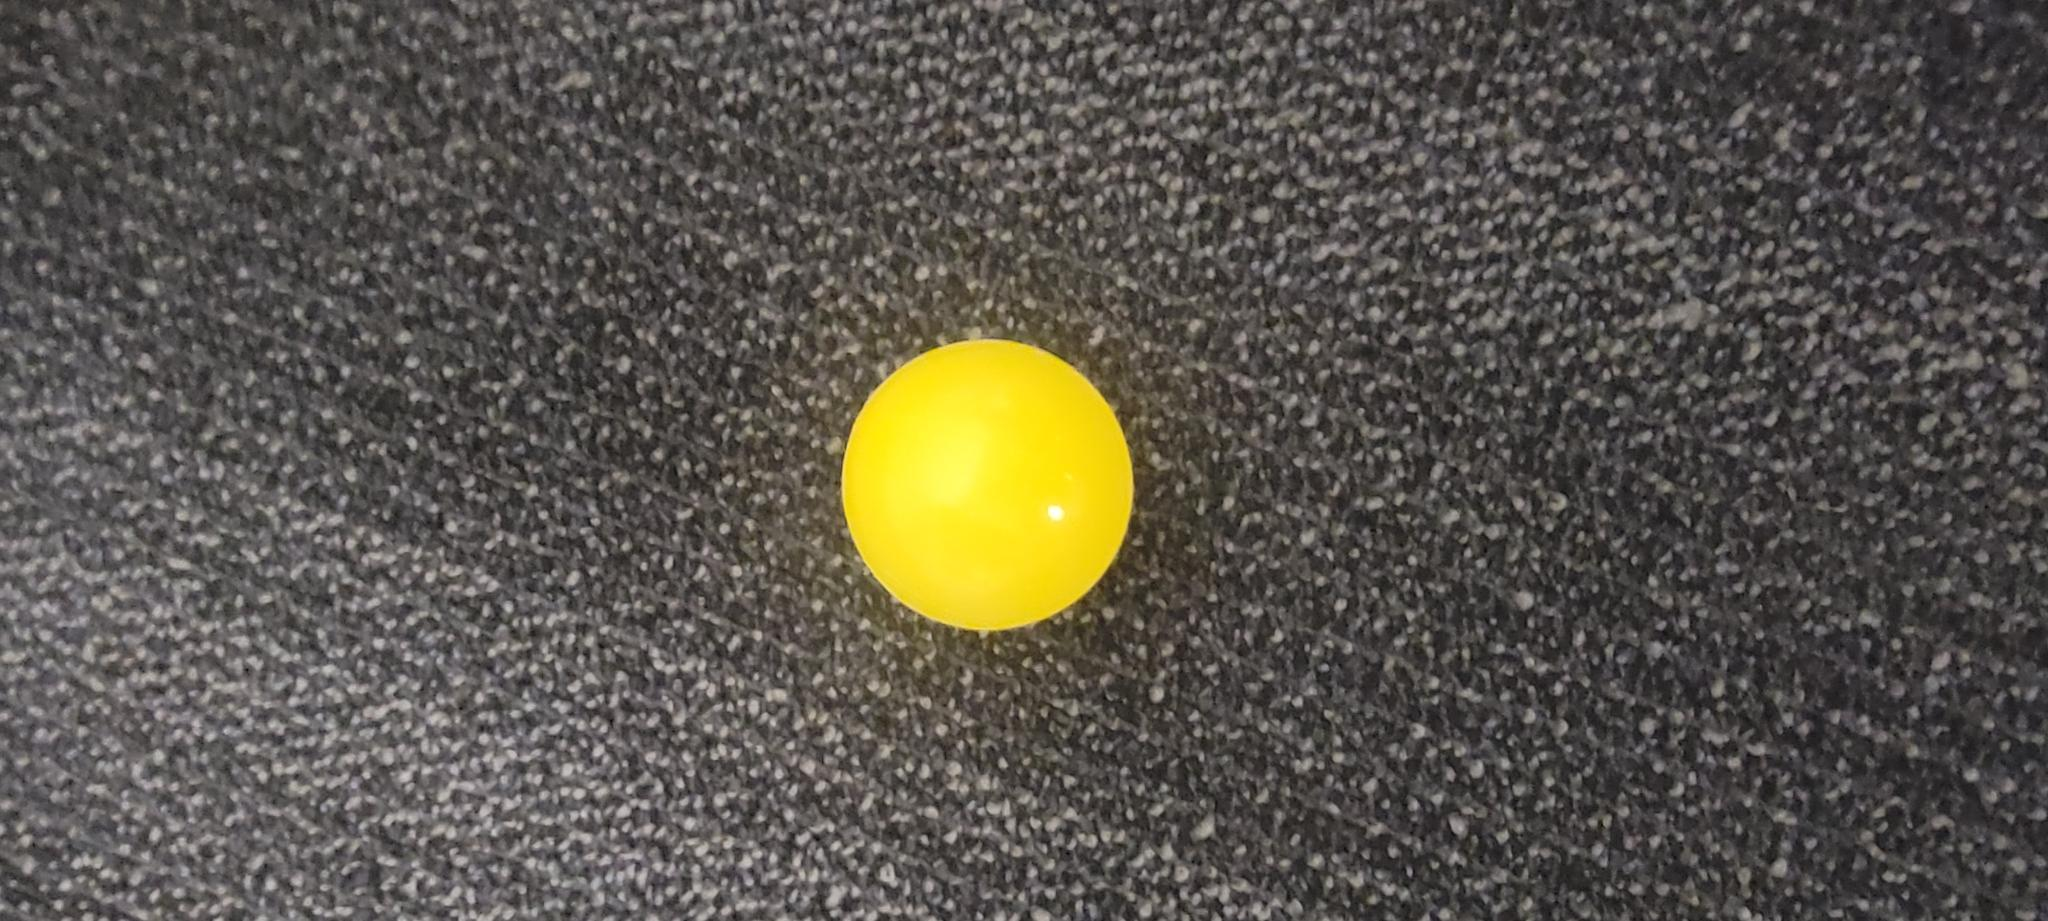Yellow-Ball: (291, 833, 583, 921)
